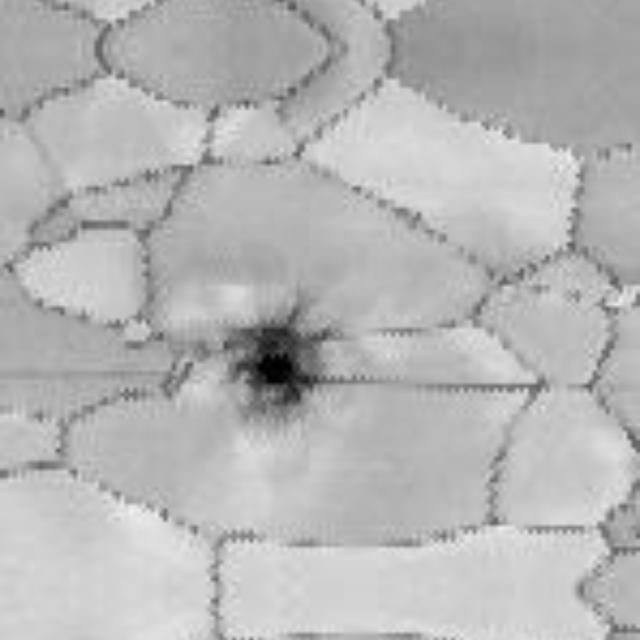good_void: (217, 309, 329, 414)
